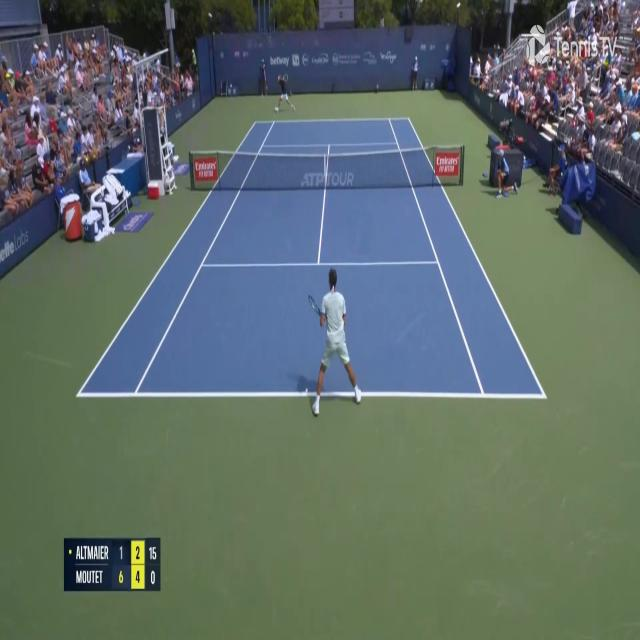tennis-player: (305, 264, 367, 419), (274, 72, 297, 115)
